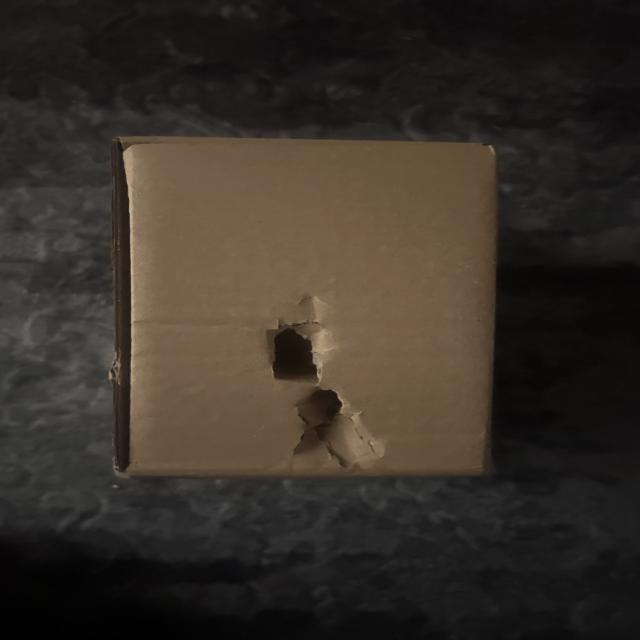damaged: (99, 127, 505, 490), (240, 290, 397, 476)
